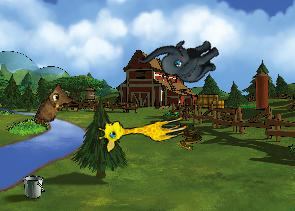elephant: (137, 16, 226, 103)
giraffe: (95, 104, 189, 154)
owl: (32, 80, 77, 134)
